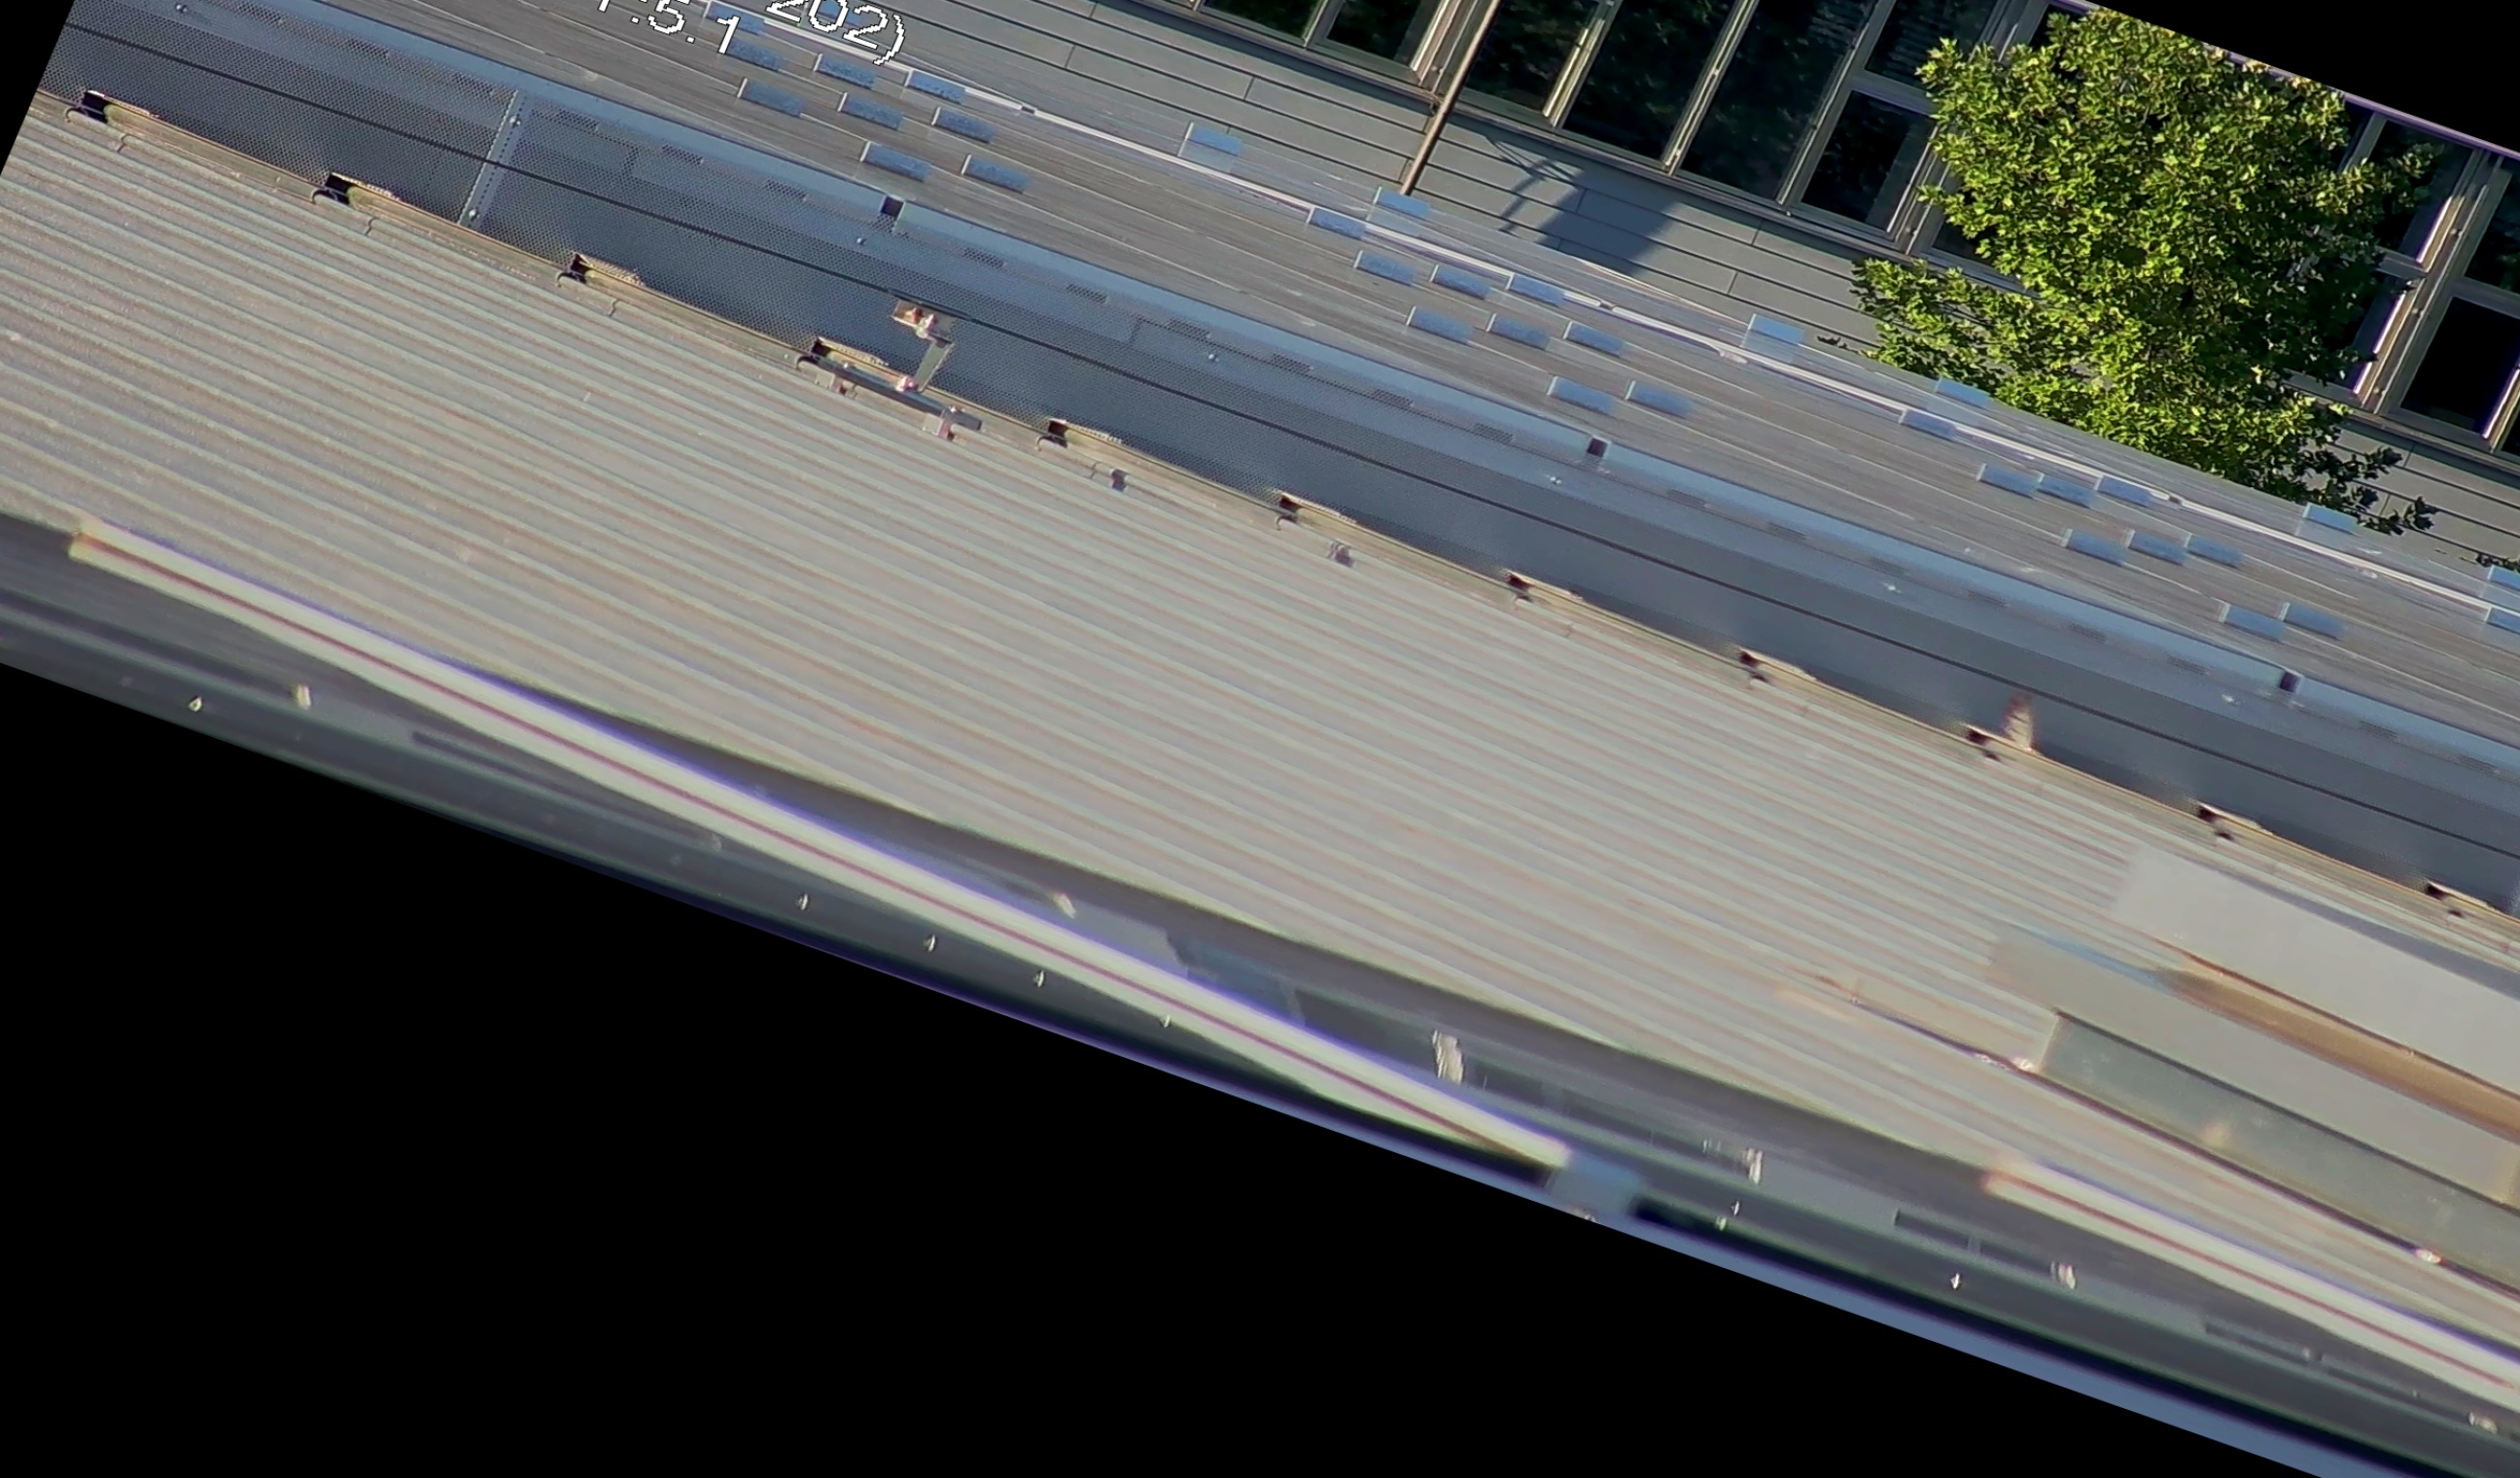Other: (1959, 670, 2077, 781)
